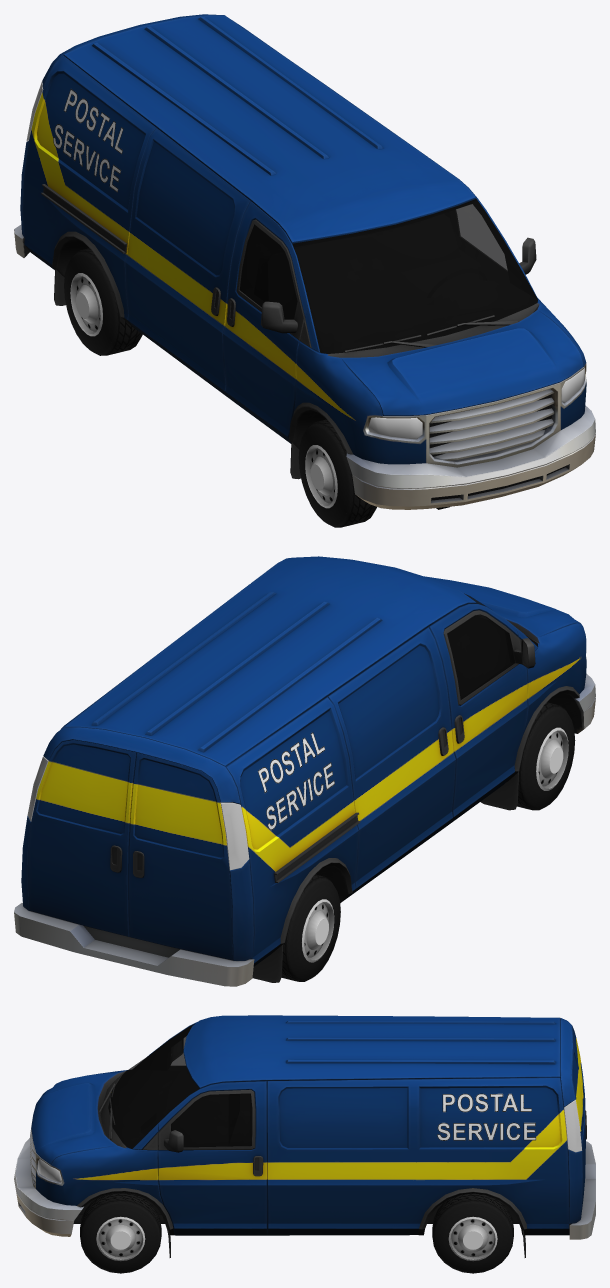
The model's file is postalvan.fbx.
The picture shows the model from 3 angles, top to bottom: view 1: azimuth 30°, elevation 25°; view 2: azimuth 150°, elevation 25°; view 3: azimuth 270°, elevation 25°; orthographic projection. The views are drawn at different scales.
Visible parts, largest first — view 1: postvan, postvan_wheelFR, postvan_wheelRR; view 2: postvan, postvan_wheelFR, postvan_wheelRR; view 3: postvan, postvan_wheelFL, postvan_wheelRL.
Boxes of the visible parts, box(x1,y1,x2,y2) form: postvan: box(14, 14, 595, 509); postvan_wheelFR: box(298, 419, 376, 527); postvan_wheelRR: box(64, 248, 142, 355); postvan: box(14, 556, 595, 986); postvan_wheelFR: box(517, 702, 575, 810); postvan_wheelRR: box(281, 874, 340, 981); postvan: box(14, 1015, 595, 1257); postvan_wheelFL: box(80, 1192, 161, 1273); postvan_wheelRL: box(432, 1193, 513, 1273).
Bounding box in the file's own units: 2285 × 2068 × 5585.
